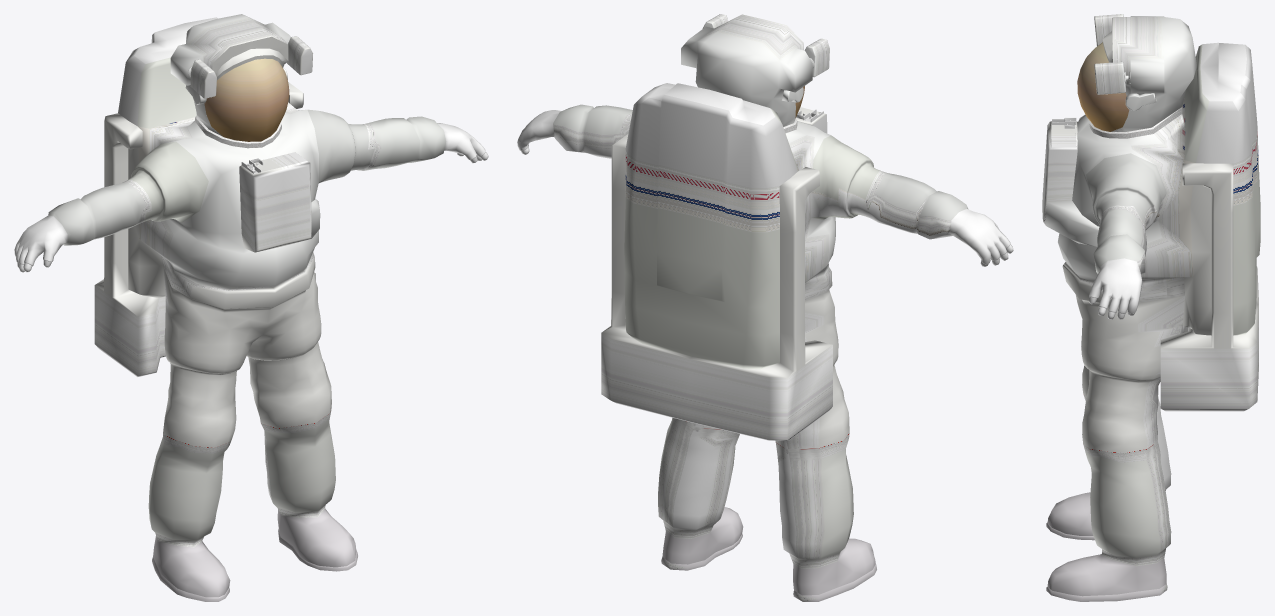
The model's file is Astronaut.obj.
3 views of the same model, side by side, from view 1: azimuth 30°, elevation 25°; view 2: azimuth 150°, elevation 25°; view 3: azimuth 270°, elevation 25° (orthographic). The views are drawn at different scales.
Visible parts, largest first — view 1: astronaut_part_1, astronaut_part_2; view 2: astronaut_part_1; view 3: astronaut_part_1, astronaut_part_2.
Part boxes in pixels (bbox=[...]): astronaut_part_1: bbox=[14, 14, 488, 601]; astronaut_part_2: bbox=[204, 58, 289, 141]; astronaut_part_1: bbox=[517, 14, 1013, 601]; astronaut_part_1: bbox=[1042, 14, 1260, 601]; astronaut_part_2: bbox=[1077, 42, 1129, 131].
Size of the model in its own units: 68.91 by 74.26 by 27.6.
2 materials, 2 textured.
